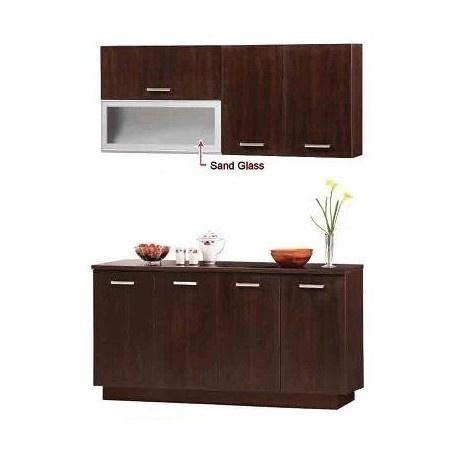cabinet_door: (283, 44, 354, 157), (280, 274, 344, 389), (219, 46, 282, 156), (220, 275, 280, 389), (157, 276, 217, 389), (99, 273, 155, 384), (103, 48, 218, 98)
handle: (143, 81, 175, 96), (303, 141, 333, 154), (237, 139, 266, 152), (297, 279, 326, 291), (171, 277, 199, 289), (110, 277, 138, 289), (234, 279, 262, 290)
